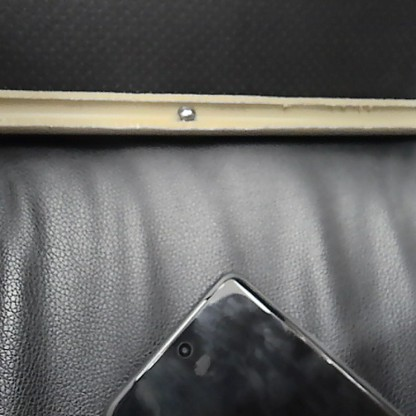ironball: (175, 102, 195, 123)
